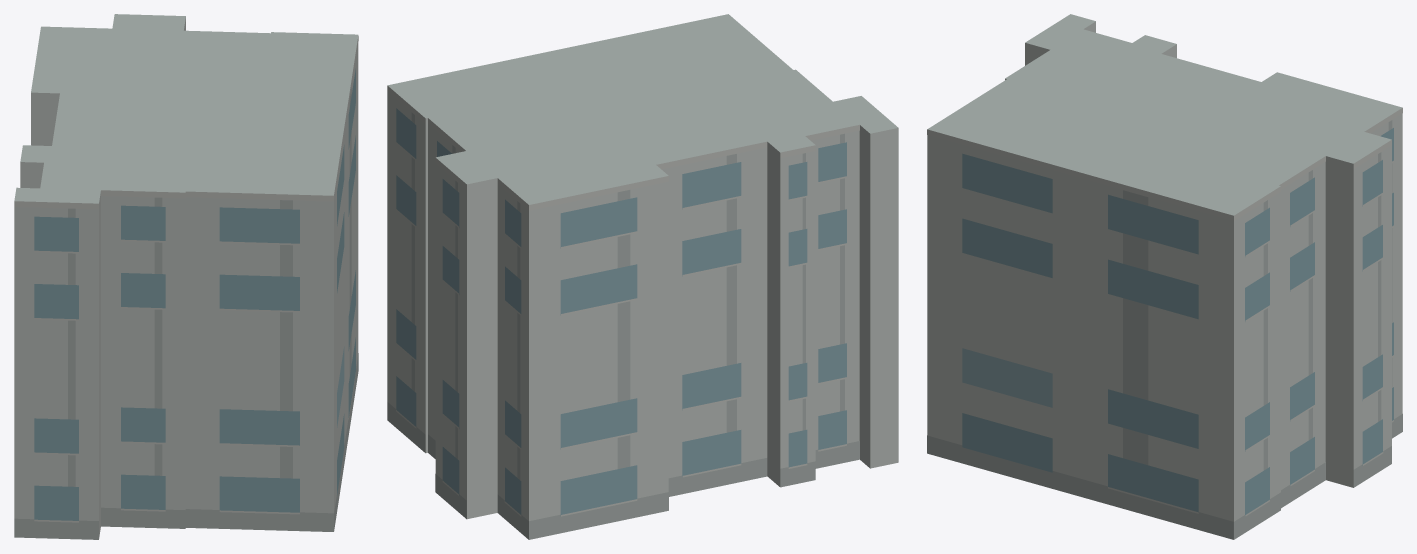
Rendered from survey-upis-32605925.glb.
The picture shows the model from 3 angles, left to right: view 1: azimuth 30°, elevation 25°; view 2: azimuth 150°, elevation 25°; view 3: azimuth 270°, elevation 25°; orthographic projection. The views are drawn at different scales.
Parts seen in each view (by area): view 1: survey-upis-32605925.tmp; view 2: survey-upis-32605925.tmp; view 3: survey-upis-32605925.tmp.
Boxes of the visible parts, x1,y1,x2,y2 form: survey-upis-32605925.tmp: (14, 14, 358, 539); survey-upis-32605925.tmp: (387, 14, 898, 539); survey-upis-32605925.tmp: (927, 14, 1402, 539).
Size of the model in its own units: 18.69 by 14 by 18.62.
